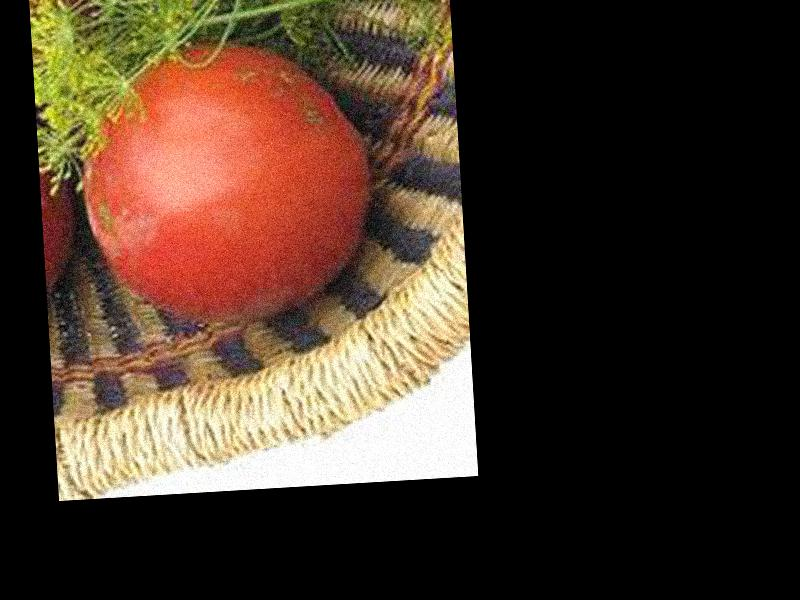Tomato: (74, 32, 374, 330)
